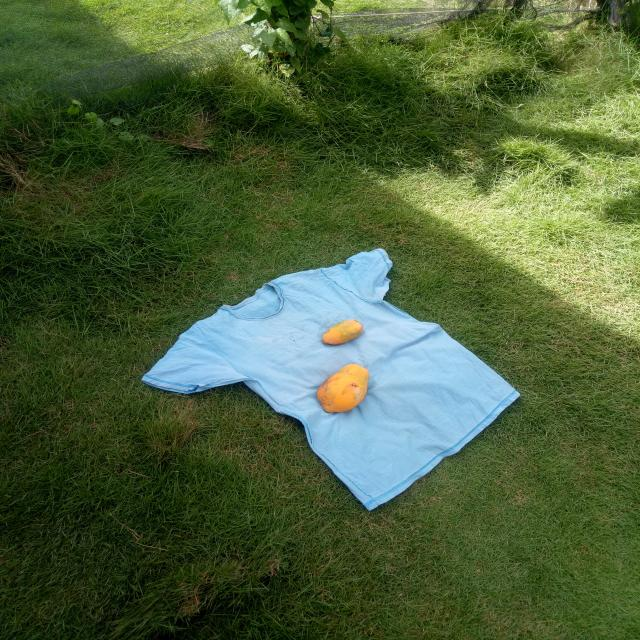Pepaya rippen: (316, 359, 373, 416), (321, 317, 366, 347)
